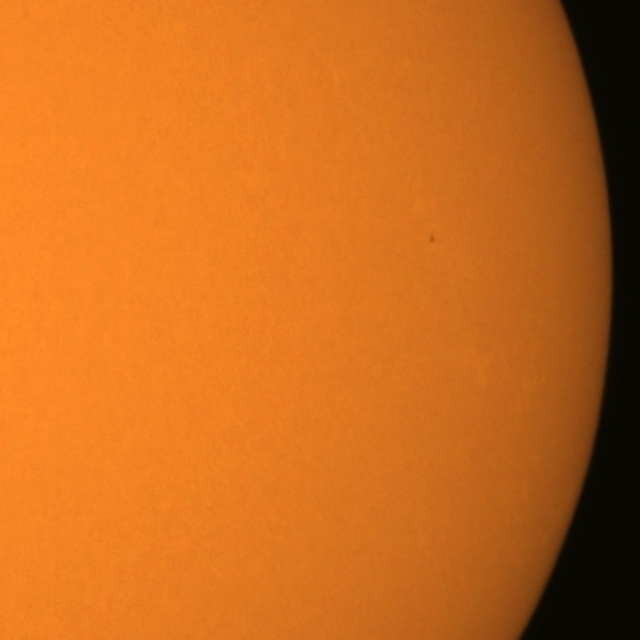sunspot: (427, 232, 438, 246)
